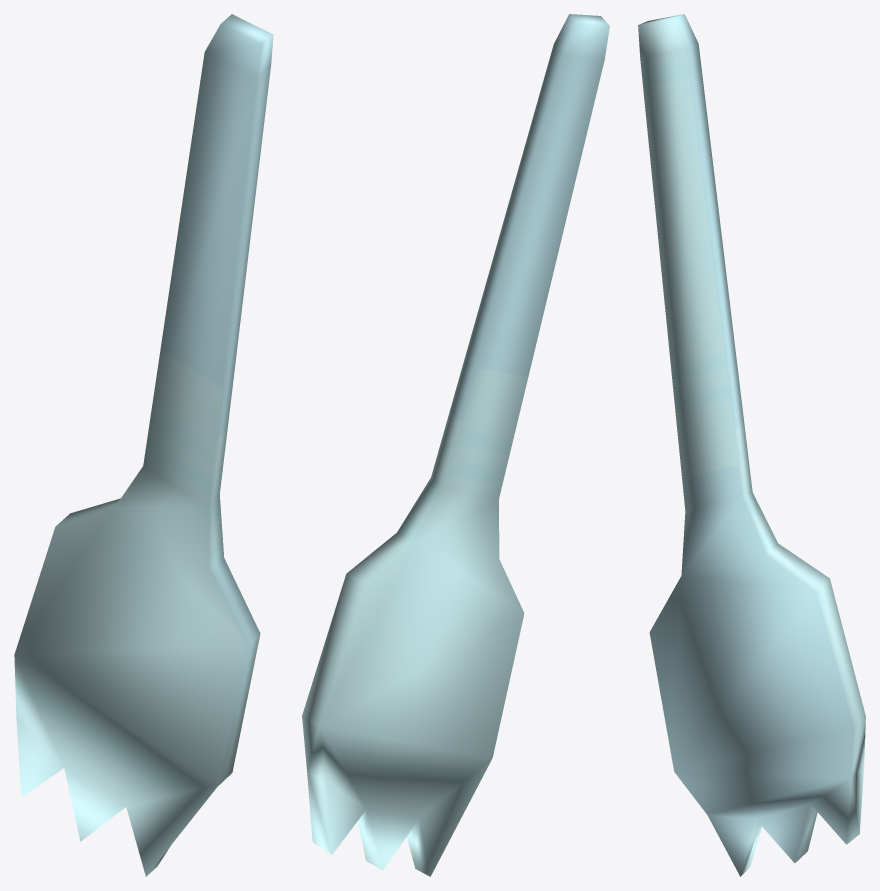
File: H_PlasticSpork.fbx
3 views of the same model, side by side, from view 1: azimuth 90°, elevation 25°; view 2: azimuth 150°, elevation 25°; view 3: azimuth 270°, elevation 25° (orthographic). The views are drawn at different scales.
Parts seen in each view (by area): view 1: Spork; view 2: Spork; view 3: Spork.
Part boxes in pixels (x1,y1,x2,y2): Spork: (14, 14, 273, 876); Spork: (302, 14, 609, 876); Spork: (638, 14, 865, 876).
Size of the model in its own units: 9.6 by 39.77 by 10.21.
